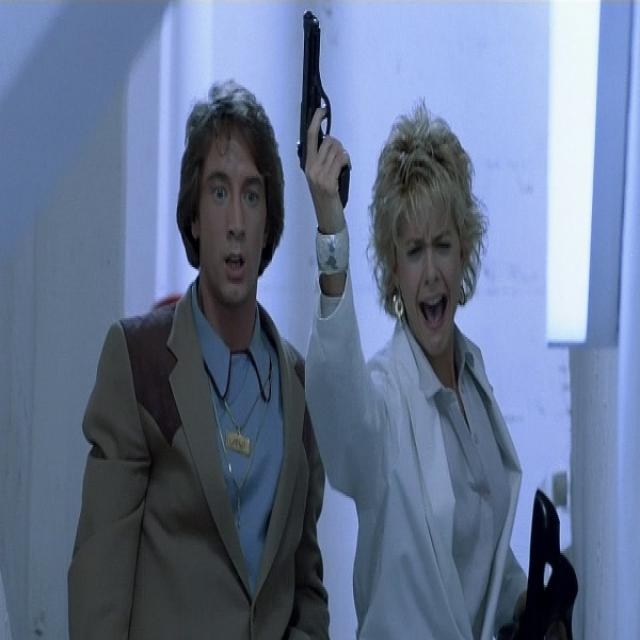weapons: (282, 2, 370, 214)
